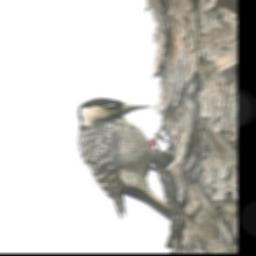Woodpecker: (77, 98, 179, 221)
